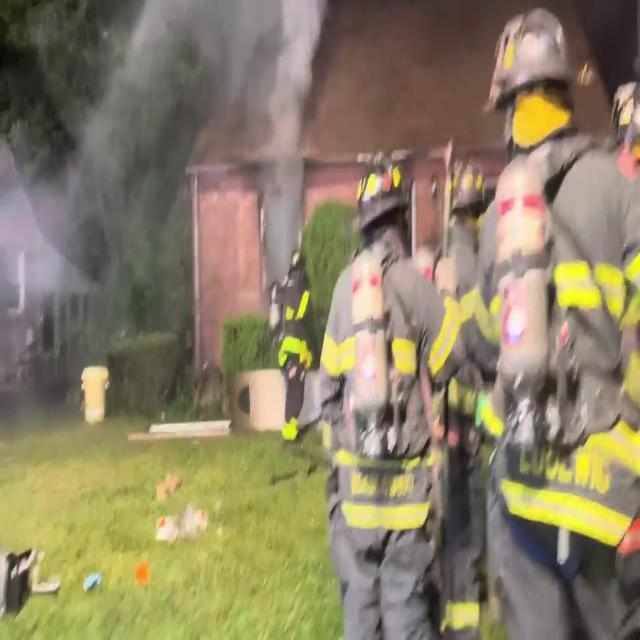Smoke: (0, 0, 318, 341)
